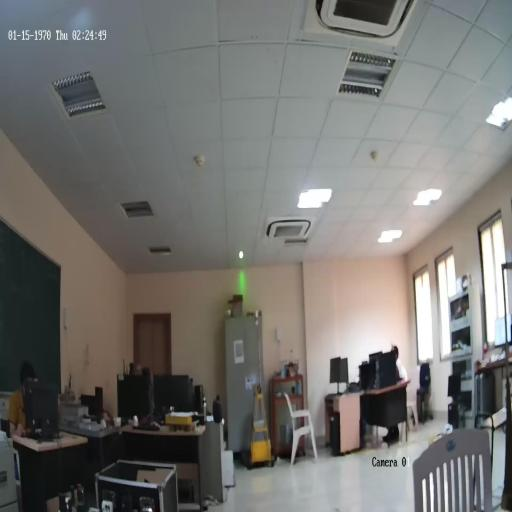laser: (238, 247, 245, 261)
